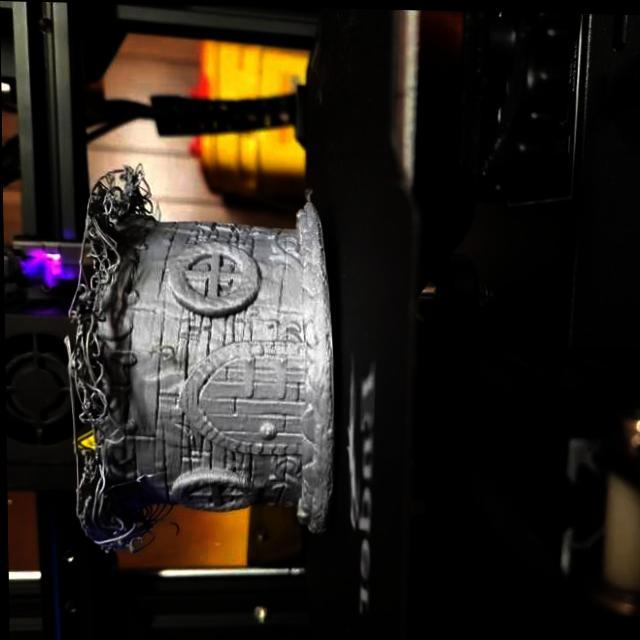spaghetti: (75, 474, 132, 552), (68, 319, 105, 412), (91, 177, 138, 246), (76, 250, 118, 304)
